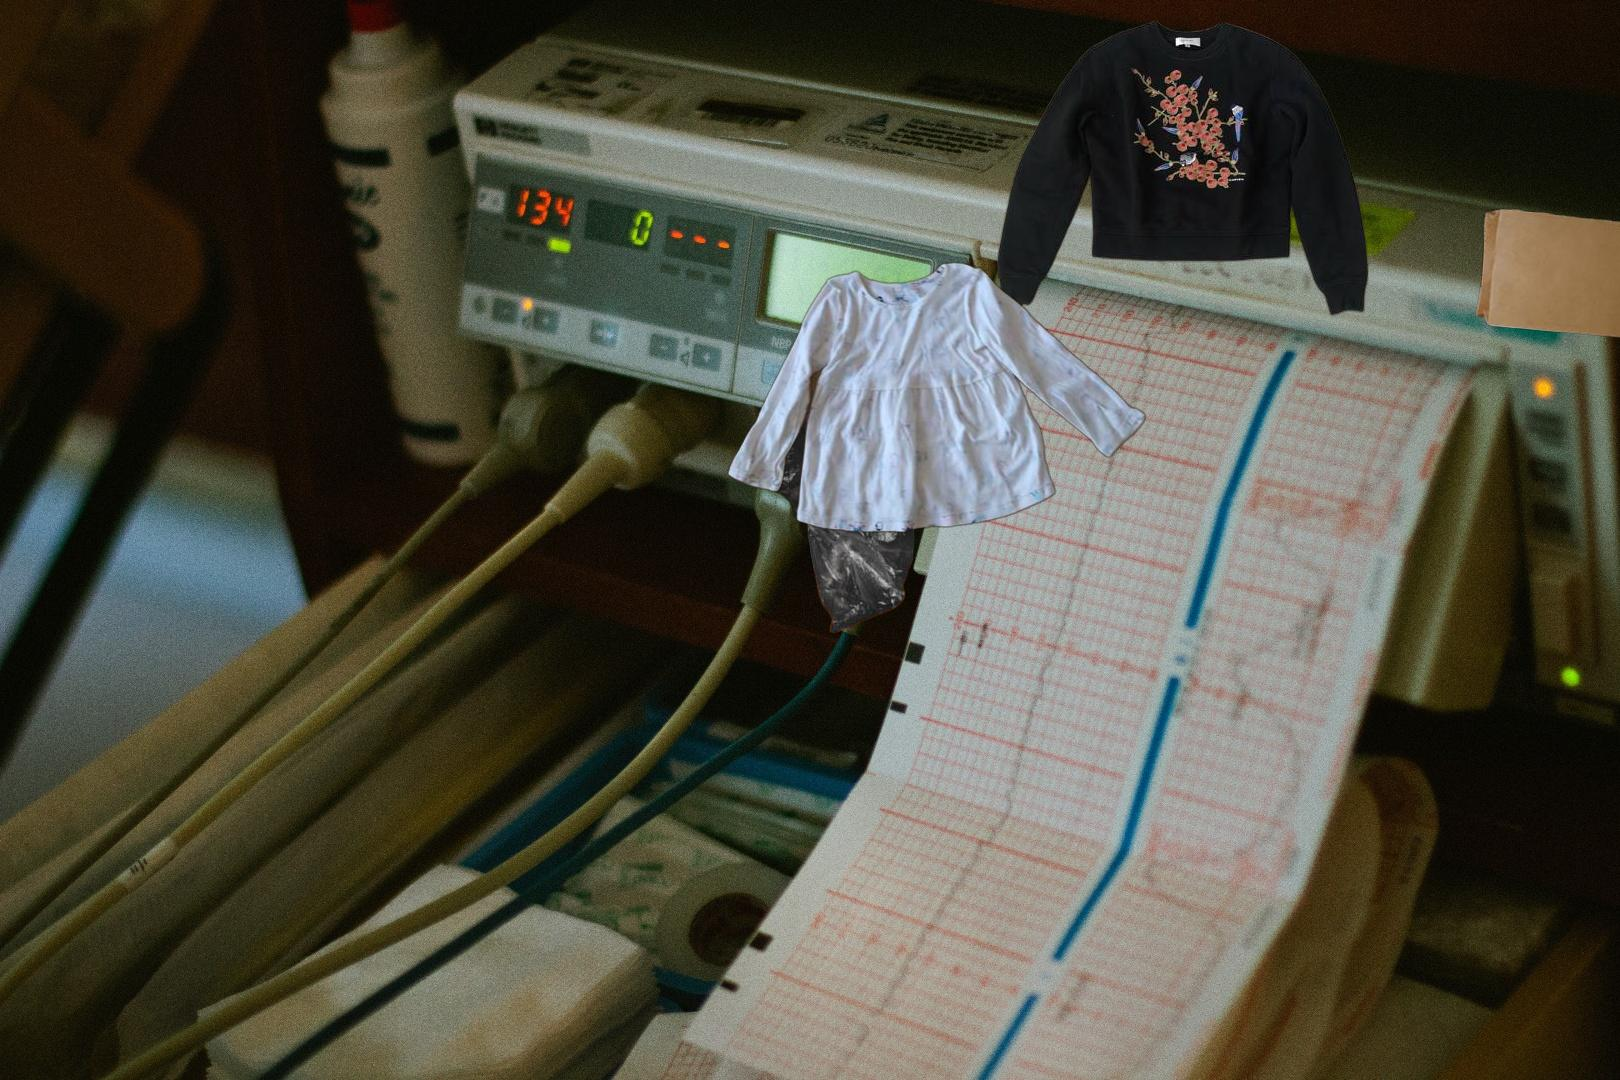clothes: (724, 259, 1150, 536), (993, 16, 1381, 319)
paper-bag: (1473, 206, 1620, 343)
plastic-bag: (759, 412, 918, 635)
